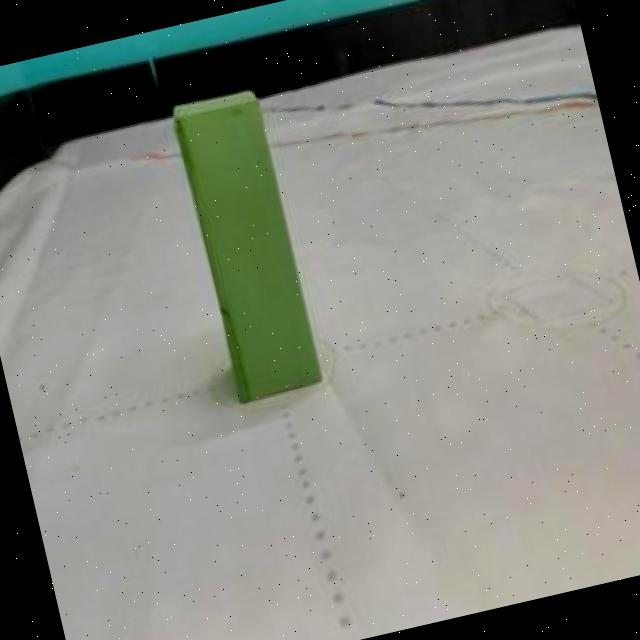greenbox: (172, 85, 324, 402)
